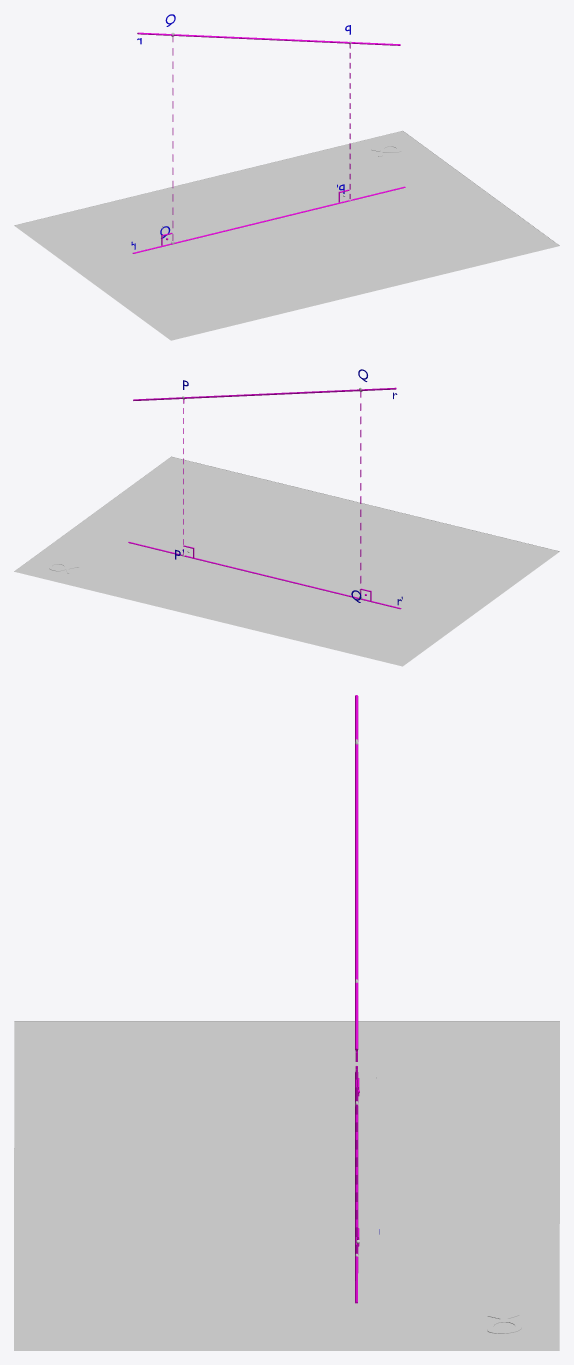
3 views of the same model, one above another, from view 1: azimuth 30°, elevation 25°; view 2: azimuth 150°, elevation 25°; view 3: azimuth 270°, elevation 25° (orthographic). The views are drawn at different scales.
Visible parts, largest first — view 1: plano_ALFA_Box, reta_r_inclinada0_Cylinder, reta_r_linha_Cylinder, A1_Cylinder; view 2: plano_ALFA_Box, reta_r_inclinada0_Cylinder, reta_r_linha_Cylinder, A1_Cylinder; view 3: plano_ALFA_Box, reta_r_inclinada0_Cylinder.
Boxes of the visible parts, x1,y1,x2,y2 form: plano_ALFA_Box: (14,130,559,340); reta_r_inclinada0_Cylinder: (137,32,400,45); reta_r_linha_Cylinder: (132,186,405,253); A1_Cylinder: (161,37,350,245); plano_ALFA_Box: (14,456,559,666); reta_r_inclinada0_Cylinder: (133,387,396,400); reta_r_linha_Cylinder: (128,542,401,609); A1_Cylinder: (183,392,371,601); plano_ALFA_Box: (14,1021,559,1350); reta_r_inclinada0_Cylinder: (355,695,358,1050).
Size of the model in its own units: 10 by 5.69 by 7.
